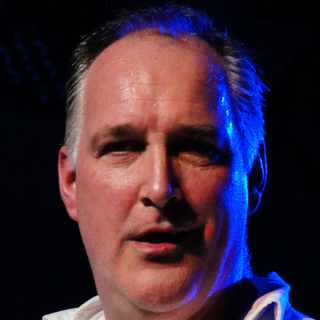eye: (95, 134, 144, 161)
